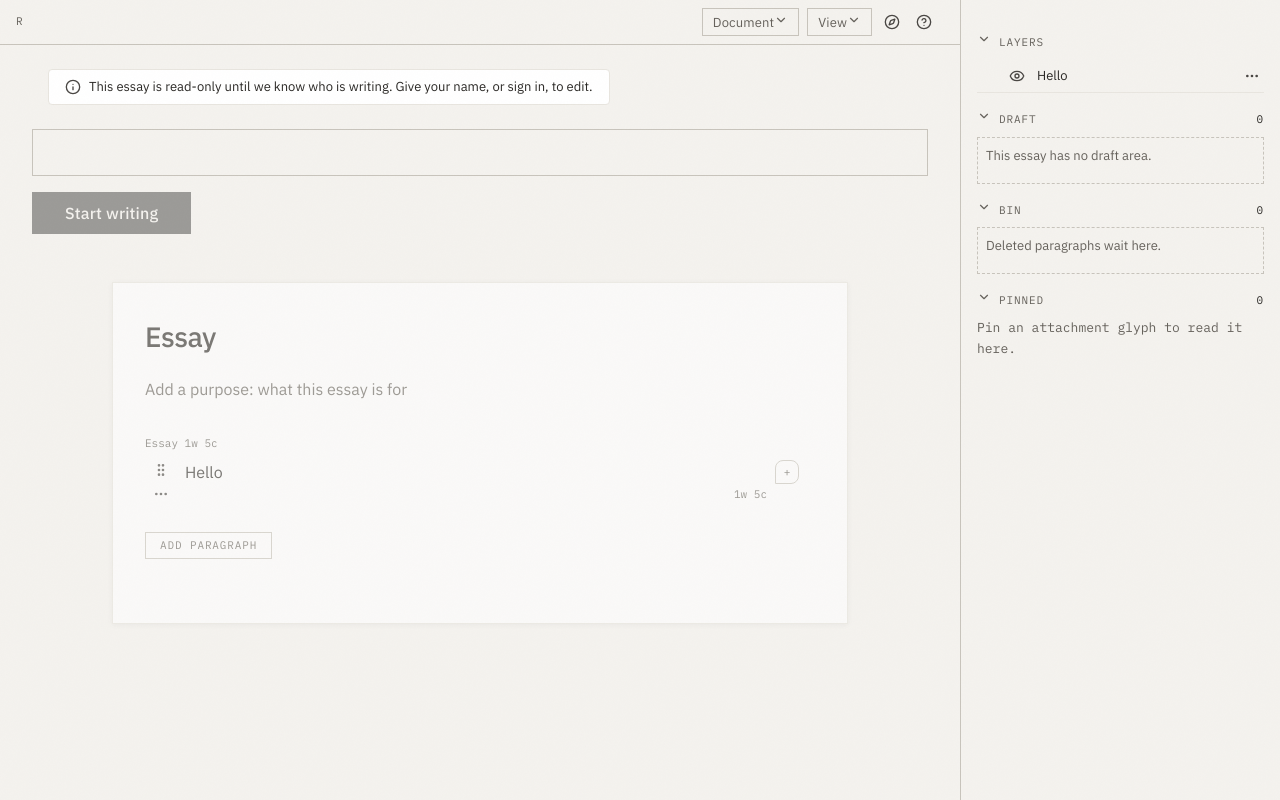
Test: without an actor the essay is read-only behind a name prompt; a name unlocks it and the header names the writer (srs-web#618)
The image size is (1280, 800).
Expected: the form with test id "name-gate" is shown, top-left (0, 45), bottom-right (960, 250)
In the field with test id "name-gate-input": x=480, y=153 top-left (32, 129), bottom-right (928, 176), type "Ada"
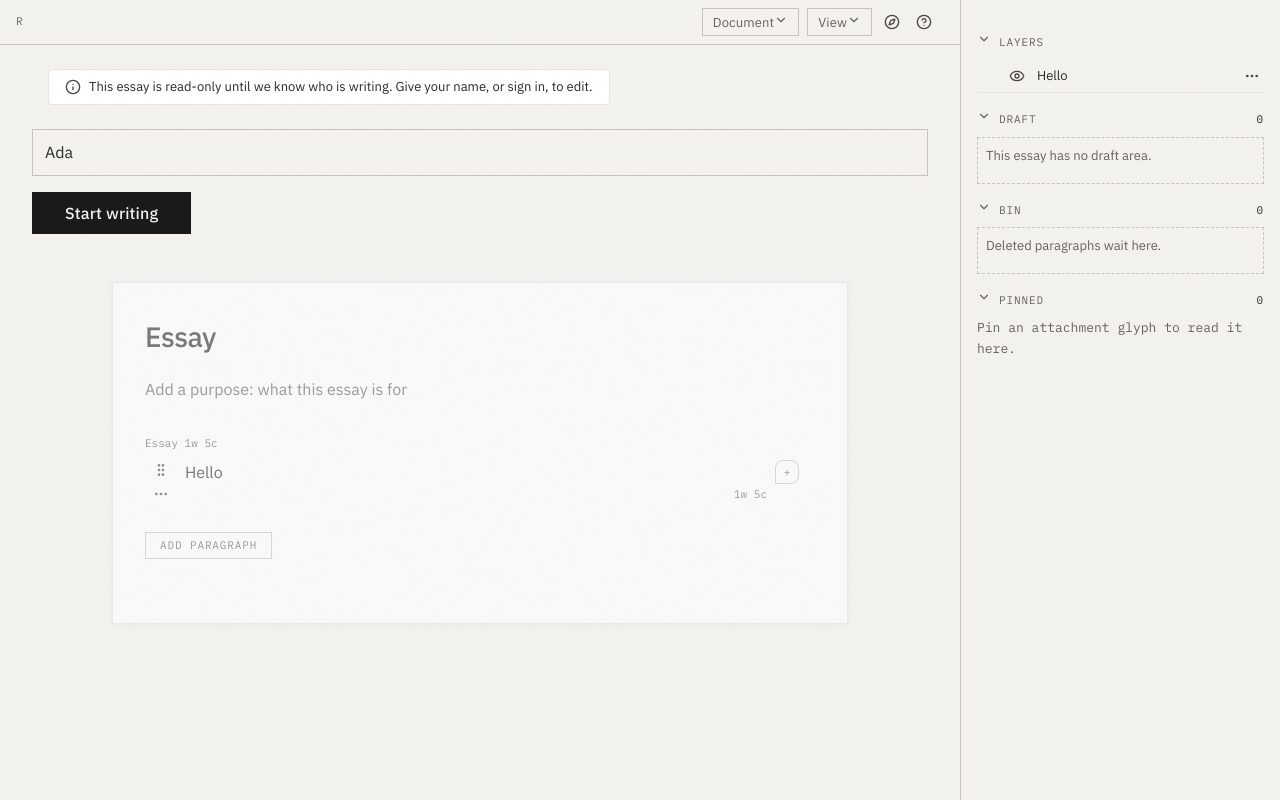
Submit the form with test id "name-gate", box top-left (0, 45), bottom-right (960, 250)
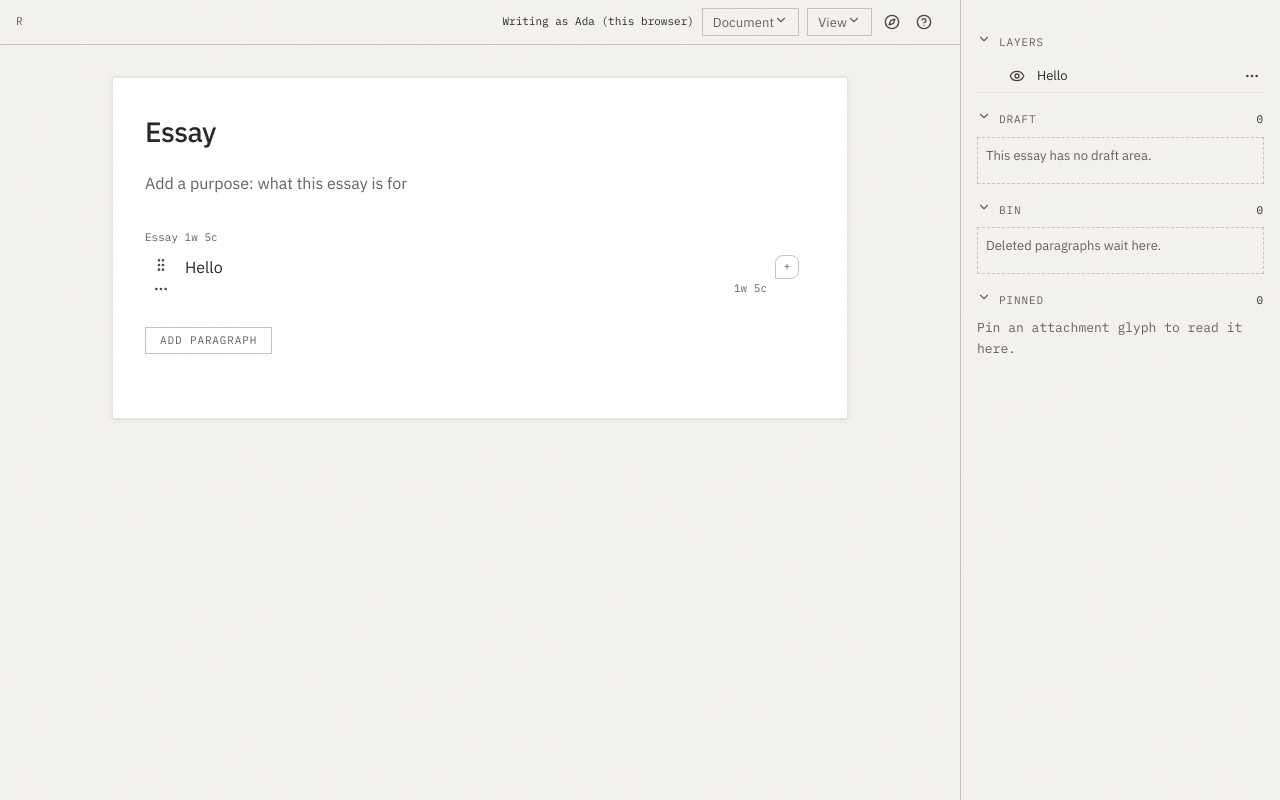
Expected: the form with test id "name-gate" is gone
Expected: the text with test id "session-actor" shows "Ada", top-left (502, 14), bottom-right (694, 28)
